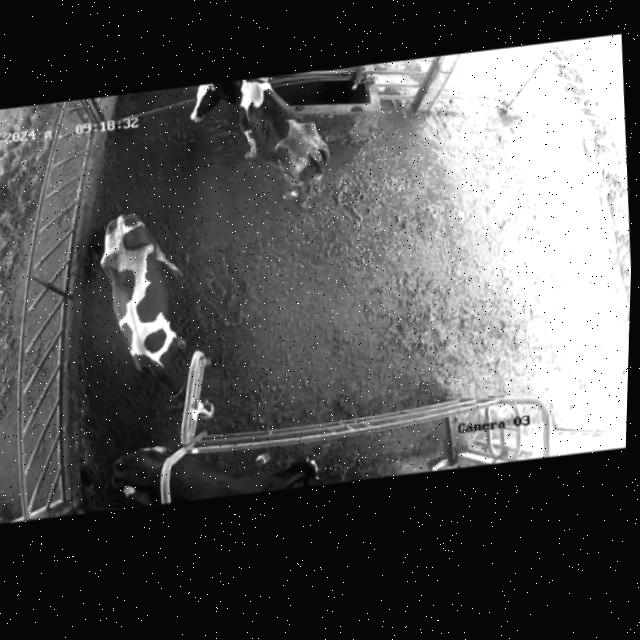stand: (78, 197, 223, 440), (177, 69, 343, 219), (103, 422, 340, 517)
